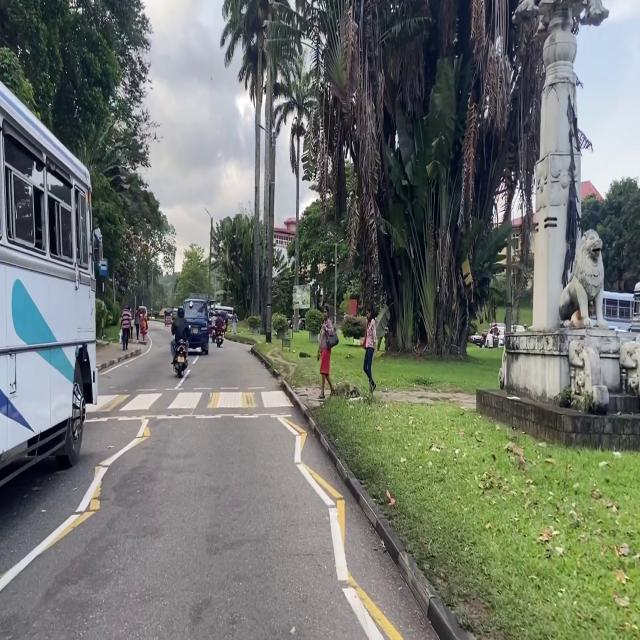bus: (0, 84, 100, 485), (603, 291, 634, 329), (630, 282, 640, 332)
car: (485, 322, 505, 348), (468, 335, 484, 347)
motorcycle: (173, 339, 187, 377), (216, 332, 223, 347), (493, 335, 498, 348)
person: (319, 306, 335, 401), (362, 308, 377, 393), (170, 308, 190, 359), (121, 306, 132, 351), (140, 312, 148, 344), (215, 312, 224, 336), (134, 308, 140, 341), (232, 309, 237, 334), (493, 324, 499, 335)
three wheeler: (164, 308, 172, 327)
van: (183, 298, 208, 354)
